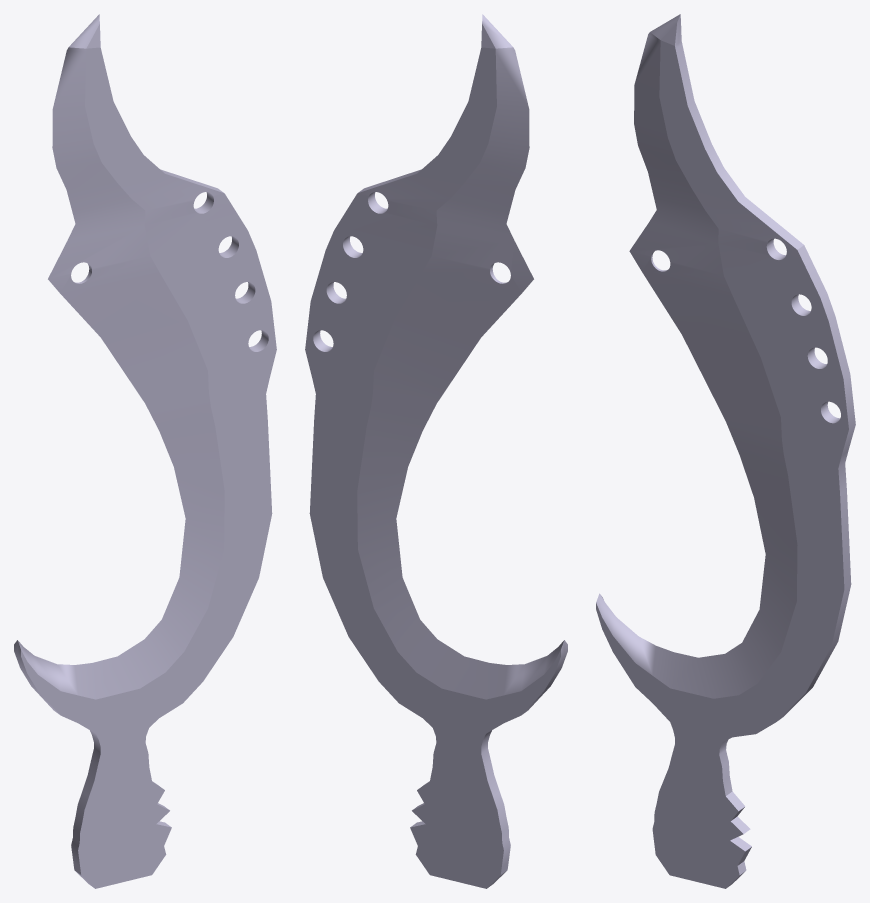
File: kujang-blade.fbx
3 renders of one model, left to right at view 1: azimuth 30°, elevation 25°; view 2: azimuth 150°, elevation 25°; view 3: azimuth 330°, elevation 25°, orthographic.
Parts seen in each view (by area): view 1: Plane; view 2: Plane; view 3: Plane.
Boxes of the visible parts, x1=… form: Plane: x1=14, y1=14, x2=276, y2=888; Plane: x1=305, y1=14, x2=567, y2=888; Plane: x1=596, y1=14, x2=855, y2=888.
Bounding box in the file's own units: 105 × 342 × 5.33.
